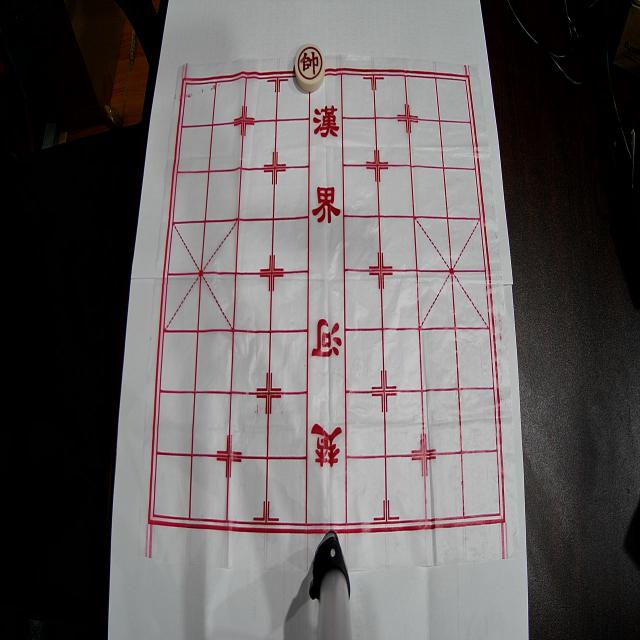red-general: (296, 44, 324, 92)
